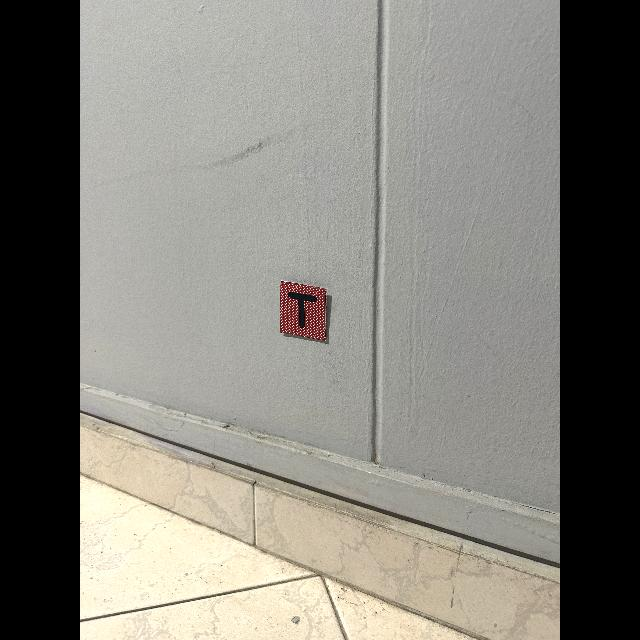T: (288, 292, 317, 329)
